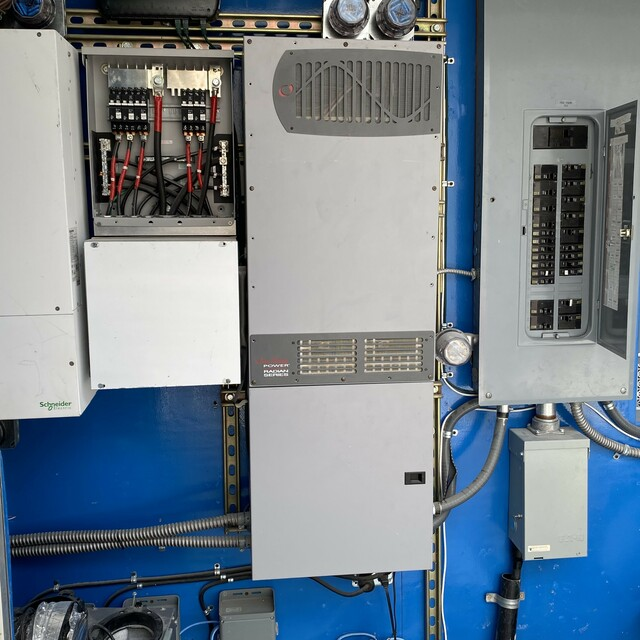inverter: (234, 29, 452, 587)
